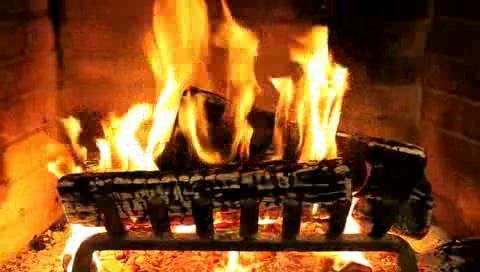fire: (117, 4, 352, 167)
